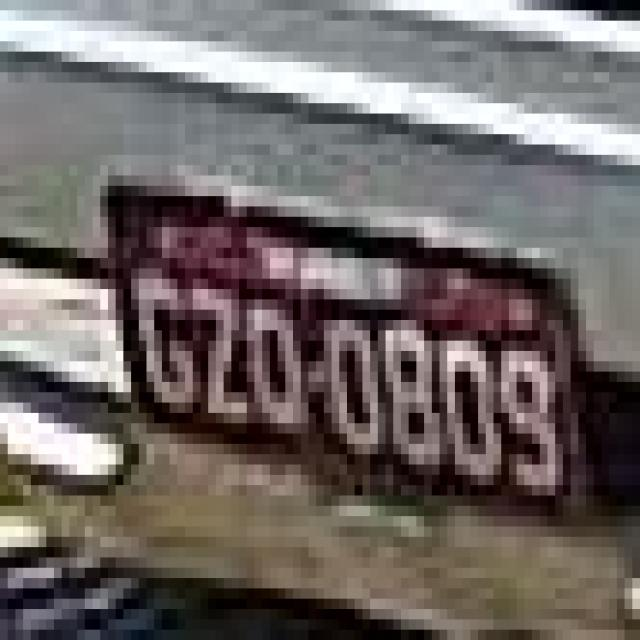0: (438, 336, 502, 493), (325, 320, 387, 462)
8: (379, 308, 442, 476)
9: (497, 346, 563, 499)
G: (126, 262, 198, 420)
O: (248, 296, 310, 446)
Z: (193, 273, 250, 423)
